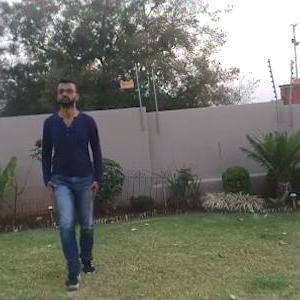follow: (41, 69, 118, 284)
